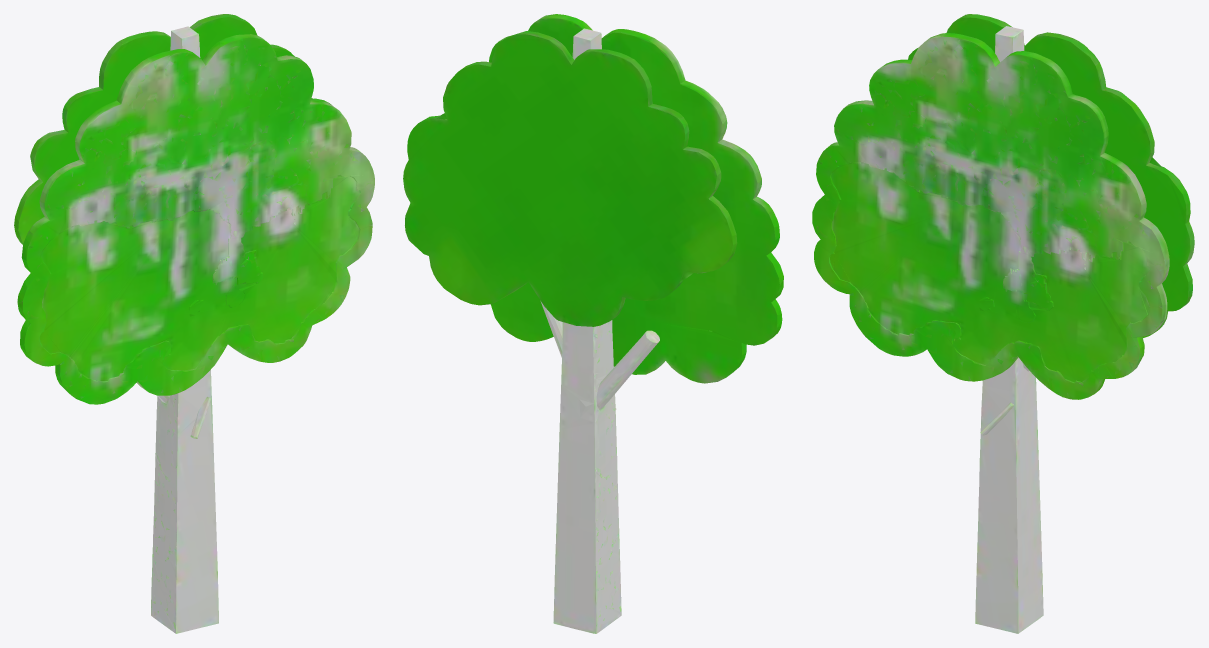
Rendered from tree-broadleaf.glb.
3 views of the same model, side by side, from view 1: azimuth 30°, elevation 25°; view 2: azimuth 150°, elevation 25°; view 3: azimuth 330°, elevation 25° (orthographic).
Parts seen in each view (by area): view 1: geometry_0; view 2: geometry_0; view 3: geometry_0.
Boxes of the visible parts, x1,y1,x2,y2 form: geometry_0: (14, 14, 374, 633); geometry_0: (403, 14, 783, 633); geometry_0: (812, 14, 1194, 633).
Bounding box in the file's own units: 0.63 × 1 × 0.1018.
1 material, 1 textured.
